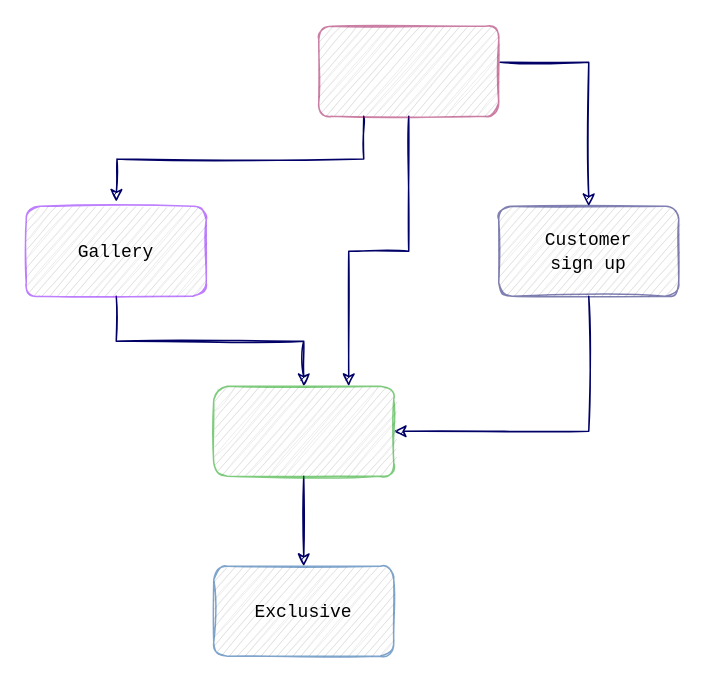
Image size: 705x683. Some labels were removed from this diagram. The centre of each missing label's shape, as x and y in pixels:
Base Page: [408,70]
Customer login: [303,430]
